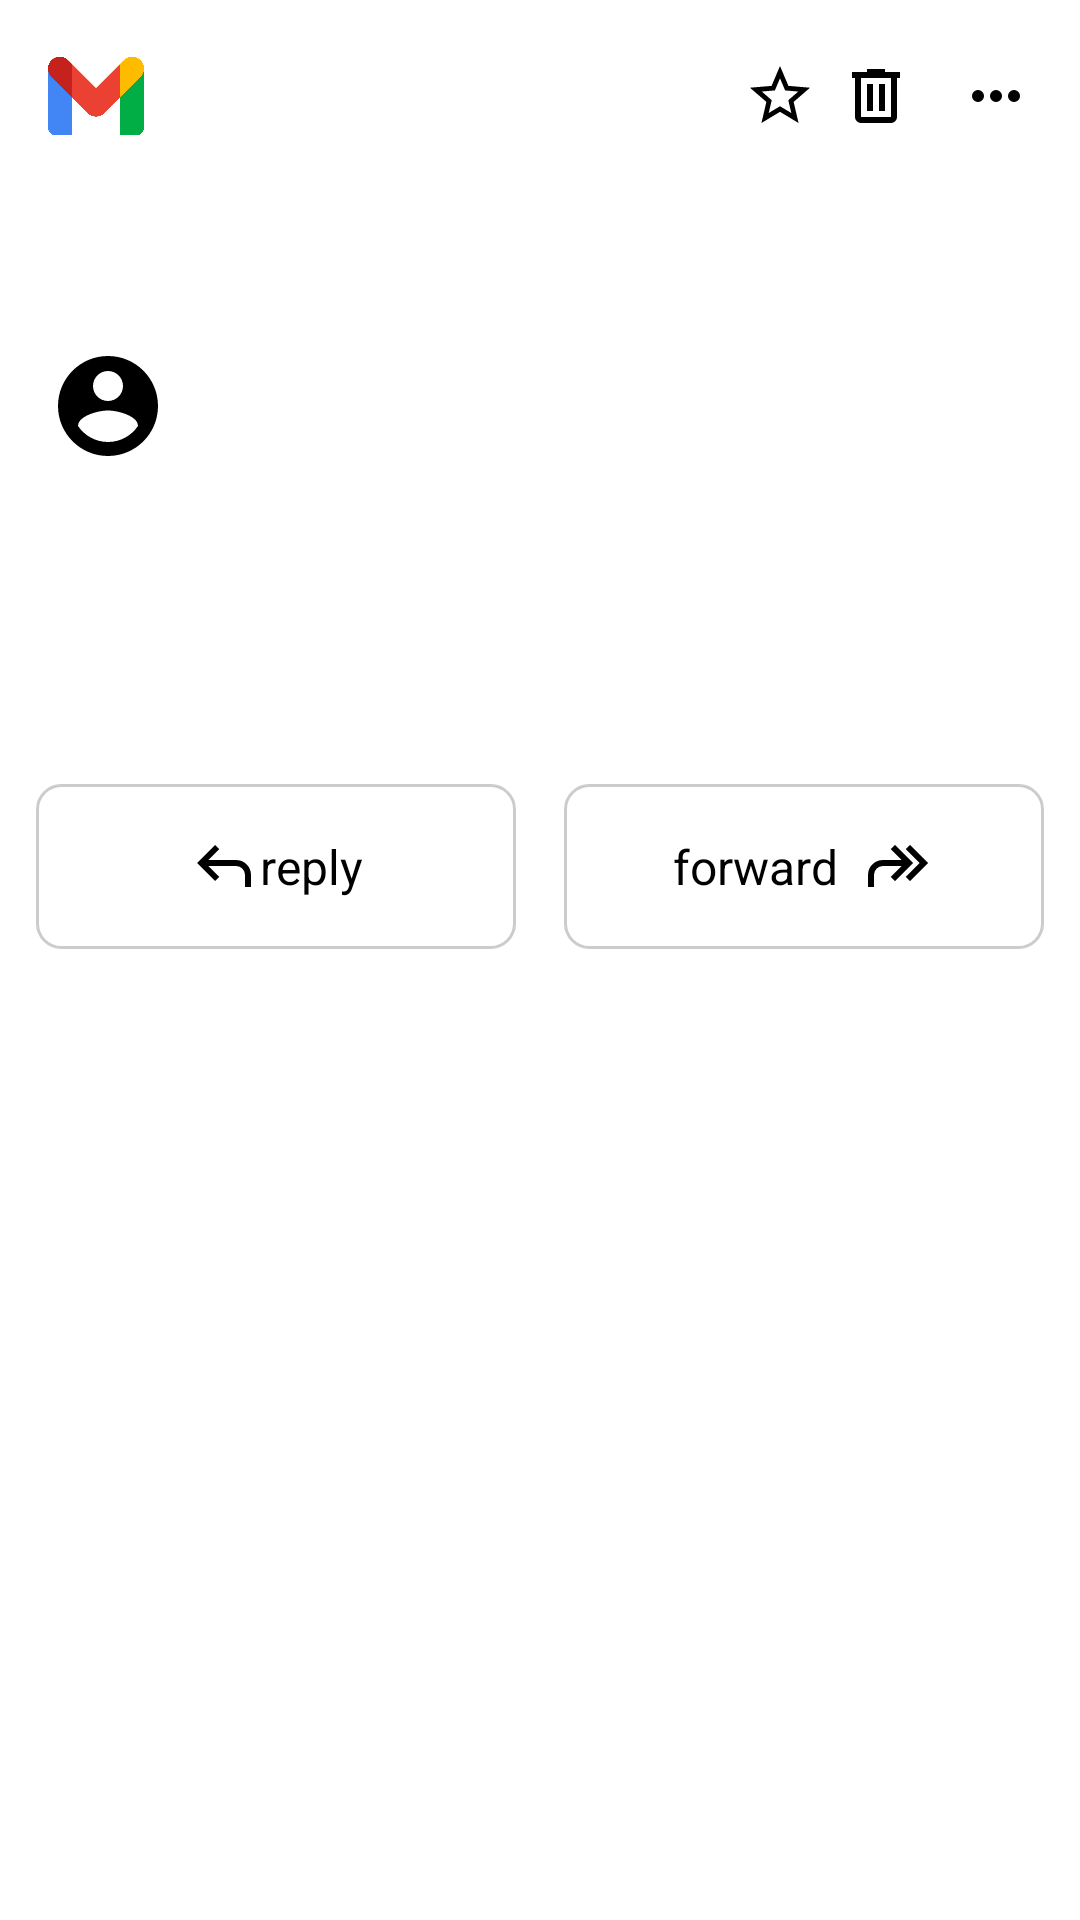

Where to tap for icons on this 1080x1920 app screen, as (x,y):
delete: (876,96)
star border: (780,94)
עוד אפשרויות: (996,96)
